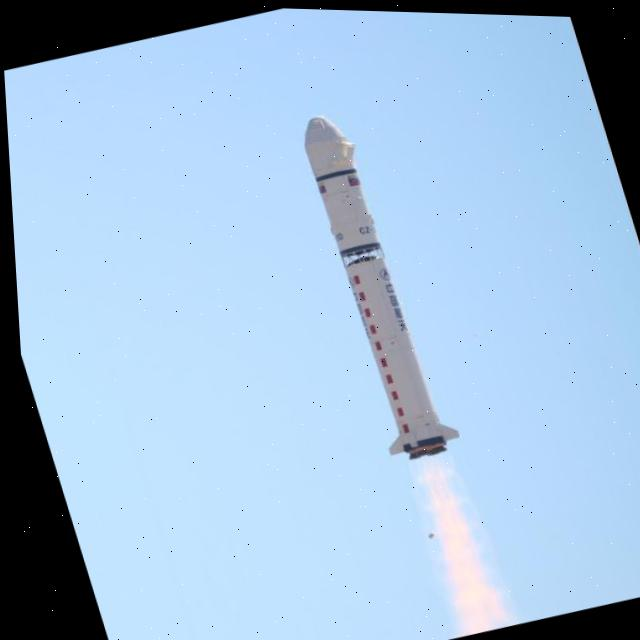missile: (283, 101, 462, 464)
